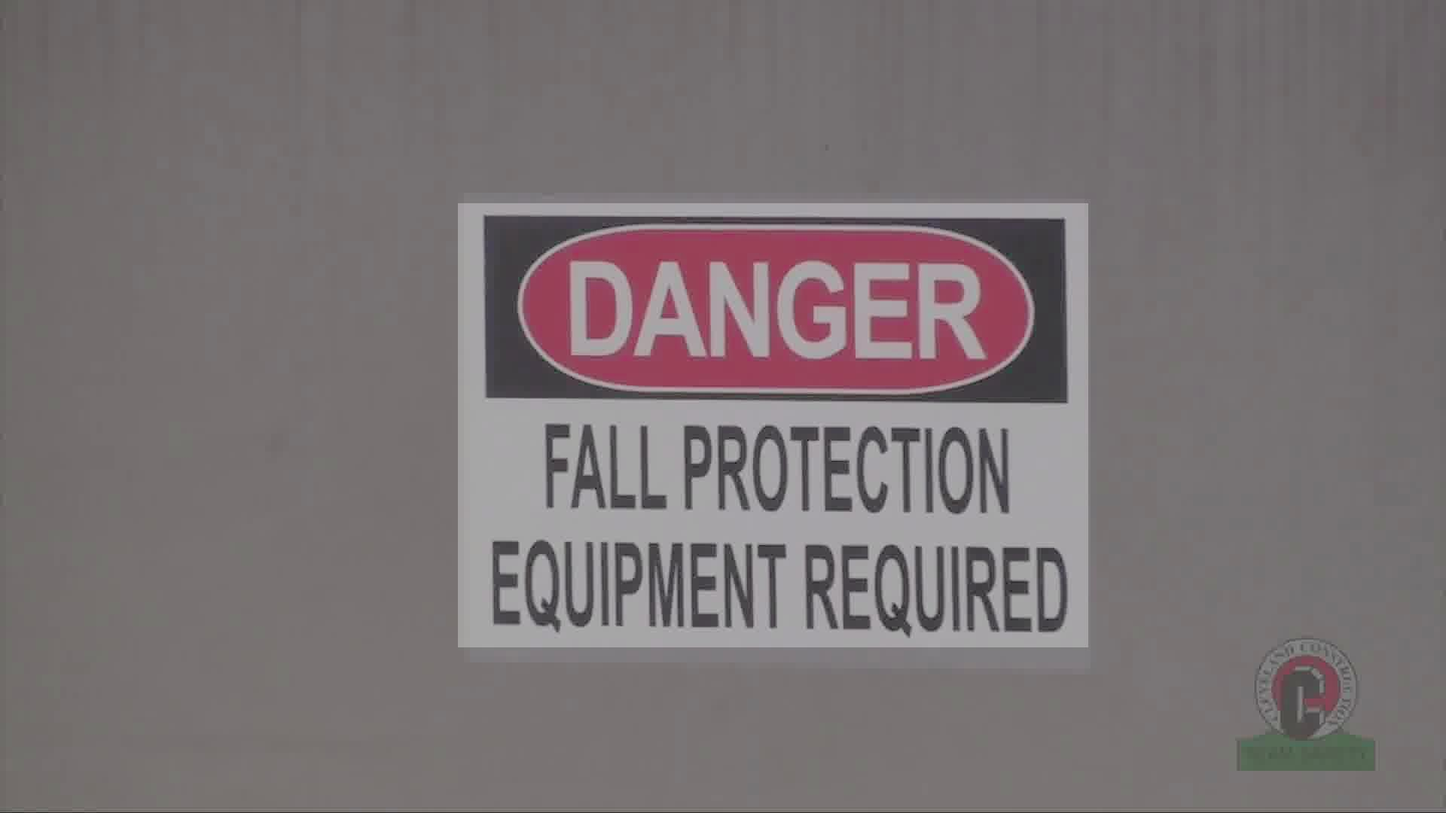safety_signage: (458, 203, 1088, 647)
